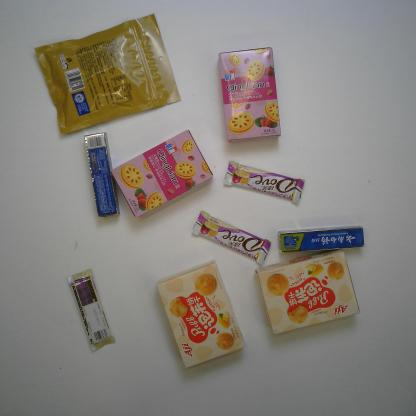Chocolate: (190, 209, 270, 266), (66, 264, 116, 354), (222, 160, 307, 206)
Dessert: (107, 126, 217, 220), (153, 260, 246, 371), (255, 248, 363, 338), (217, 42, 284, 146)
Dried Fruit: (33, 12, 183, 139)
Personal Hygiene: (83, 130, 124, 220), (276, 221, 369, 255)
